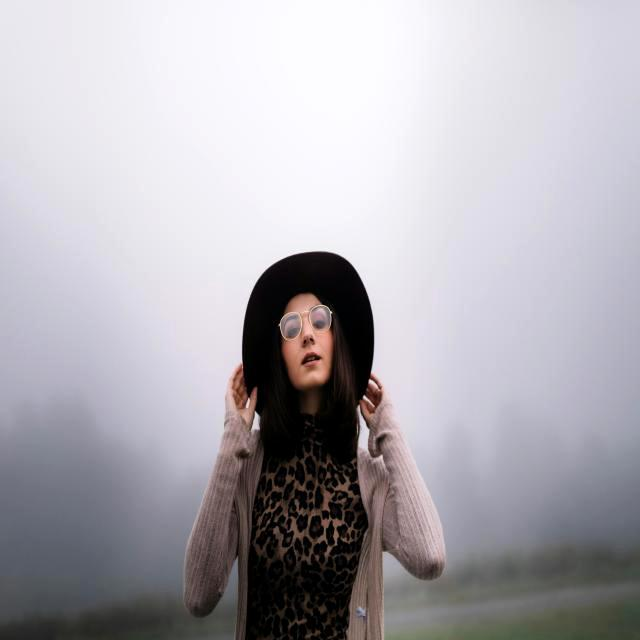no_hard_hat: (242, 252, 374, 415)
person: (184, 252, 445, 640)
